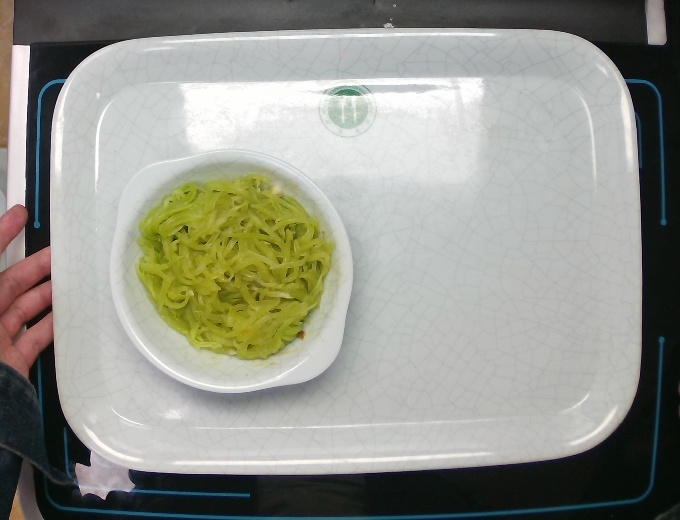JYsf-Shuang_Er_Wan: (110, 150, 355, 393)
